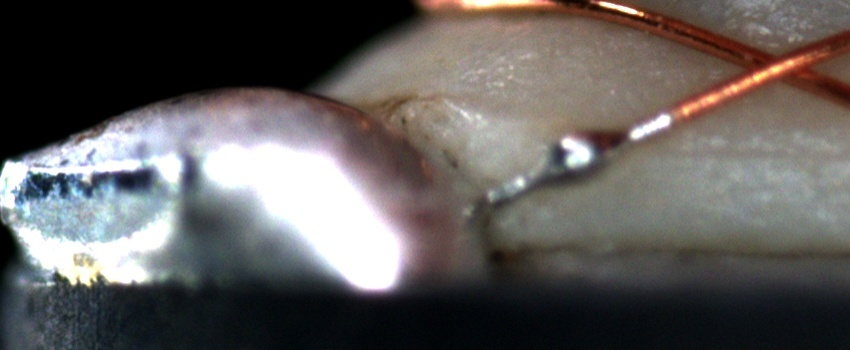CL: (716, 37, 837, 92)
DL: (638, 124, 850, 188)
TB: (538, 125, 631, 192)
TS: (482, 114, 669, 203)
TTCW: (483, 86, 715, 206)
